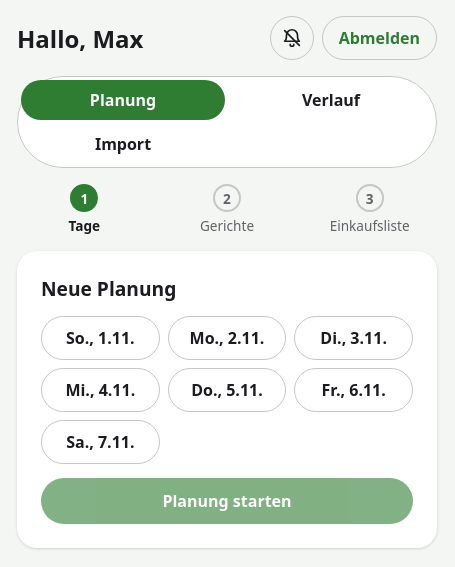
Test case: notifications switch › subscribes this phone with the server's key and tells the server where to reach it
This screenshot has width=455, height=567.
What coordinates should you click on to do the following:
click the button named "Benachrichtigungen an"
I would click on:
 (292, 38)
Its box is left=270, top=16, right=314, bottom=60.
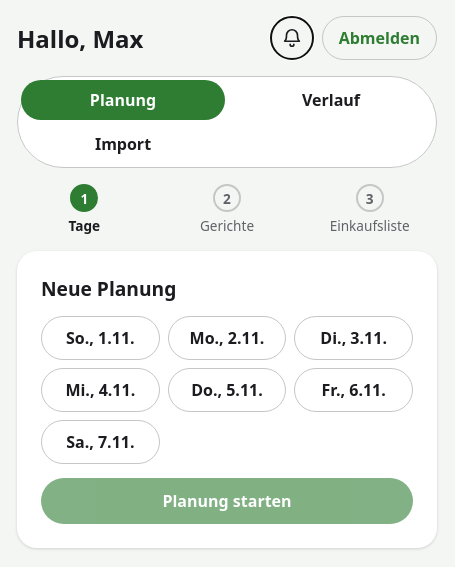
Result: the button named "Benachrichtigungen aus" is shown at left=270, top=16, right=314, bottom=60
